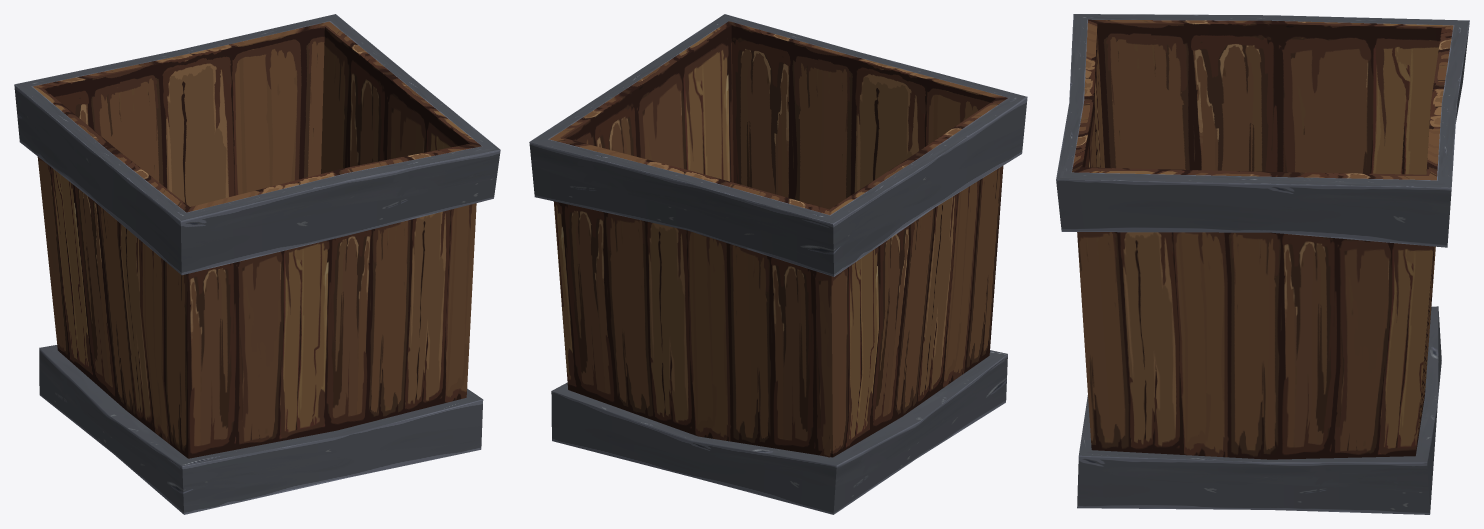
Rendered from SM_PROP_box_dungeon_03.fbx.
3 renders of one model, left to right at view 1: azimuth 30°, elevation 25°; view 2: azimuth 150°, elevation 25°; view 3: azimuth 270°, elevation 25°, orthographic. The views are drawn at different scales.
Visible parts, largest first — view 1: SM_PROP_box_dungeon_03; view 2: SM_PROP_box_dungeon_03; view 3: SM_PROP_box_dungeon_03.
Boxes of the visible parts, x1,y1,x2,y2 form: SM_PROP_box_dungeon_03: (14, 14, 500, 514); SM_PROP_box_dungeon_03: (529, 14, 1027, 514); SM_PROP_box_dungeon_03: (1056, 14, 1469, 514).
Bounding box in the file's own units: 94.59 × 84.86 × 94.41.
